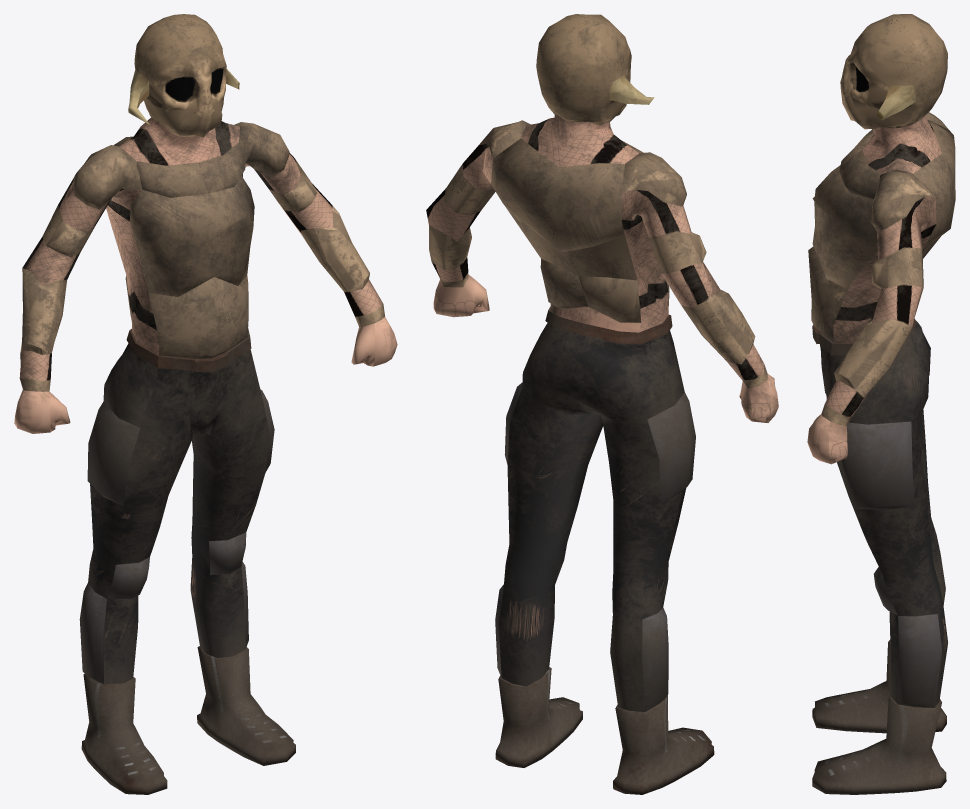
The model's file is Anim_idle_npc1.0043.obj.
3 renders of one model, left to right at view 1: azimuth 30°, elevation 25°; view 2: azimuth 150°, elevation 25°; view 3: azimuth 270°, elevation 25°, orthographic. The views are drawn at different scales.
Parts seen in each view (by area): view 1: NPC2; view 2: NPC2; view 3: NPC2.
Part boxes in pixels (x1=…): NPC2: x1=14, y1=14, x2=397, y2=794; NPC2: x1=426, y1=14, x2=778, y2=794; NPC2: x1=807, y1=14, x2=955, y2=794.
Size of the model in its own units: 4.93 by 9.67 by 1.76.
